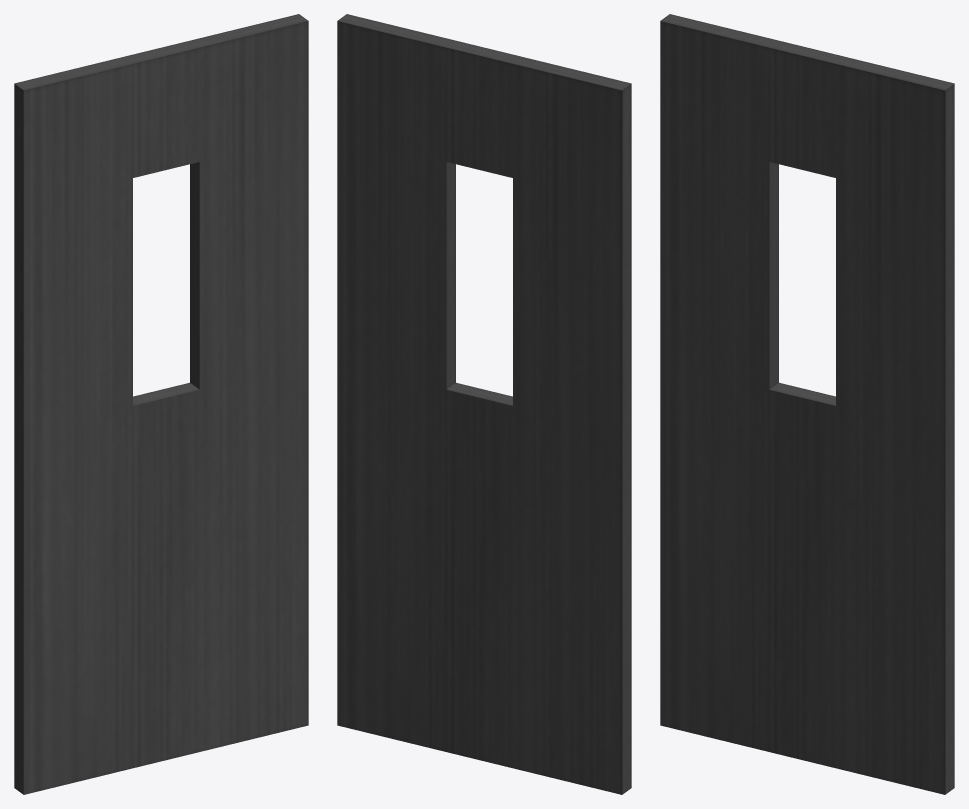
The model's file is Door1x2_25Wind.gltf.
3 renders of one model, left to right at view 1: azimuth 30°, elevation 25°; view 2: azimuth 150°, elevation 25°; view 3: azimuth 330°, elevation 25°, orthographic.
Parts seen in each view (by area): view 1: Door1x2_25WindShape; view 2: Door1x2_25WindShape; view 3: Door1x2_25WindShape.
Part boxes in pixels (x1,y1,x2,y2): Door1x2_25WindShape: (14,14,308,794); Door1x2_25WindShape: (337,14,631,794); Door1x2_25WindShape: (660,14,954,794).
Bounding box in the file's own units: 0.94 × 2.22 × 0.0551.
1 material, 1 textured.
